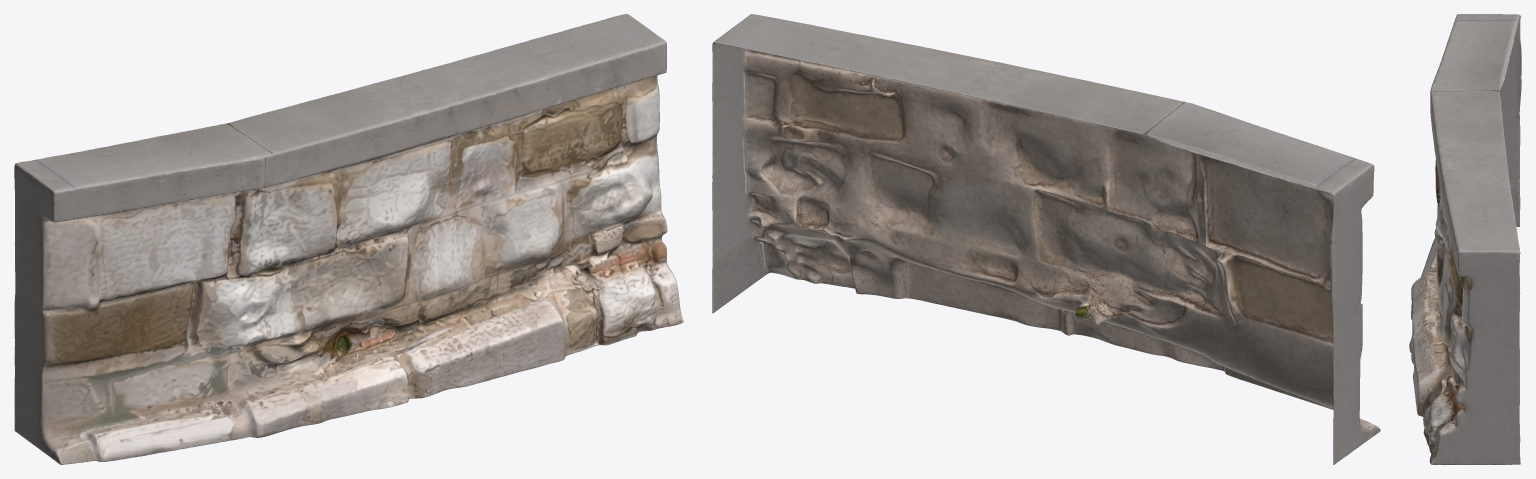
File: Meshy_AI_Weathered_Stonework_0914180713_texture.fbx
3 views of the same model, side by side, from view 1: azimuth 30°, elevation 25°; view 2: azimuth 150°, elevation 25°; view 3: azimuth 270°, elevation 25° (orthographic). The views are drawn at different scales.
Visible parts, largest first — view 1: Mesh_0; view 2: Mesh_0; view 3: Mesh_0.
Part boxes in pixels (x1,y1,x2,y2): Mesh_0: [14, 14, 683, 464]; Mesh_0: [712, 14, 1380, 464]; Mesh_0: [1409, 14, 1521, 464].
Bounding box in the file's own units: 190 × 79.67 × 37.93.
1 material, 1 textured.
